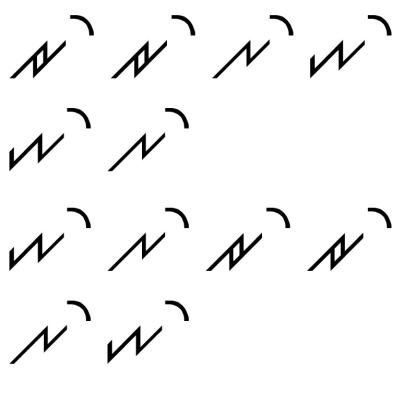lay: (7, 295, 95, 376), (210, 8, 296, 90), (106, 199, 190, 281), (109, 102, 192, 178)
ray: (306, 202, 398, 276), (9, 8, 96, 85), (202, 200, 290, 275), (108, 9, 196, 84)
yay: (102, 292, 194, 368), (5, 101, 96, 176), (6, 202, 93, 275), (307, 8, 393, 81)
